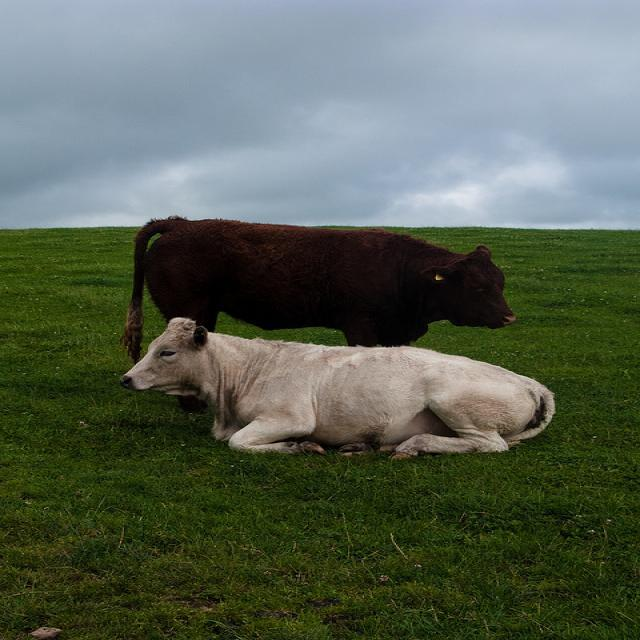cow: (116, 318, 561, 459), (116, 216, 512, 351)
